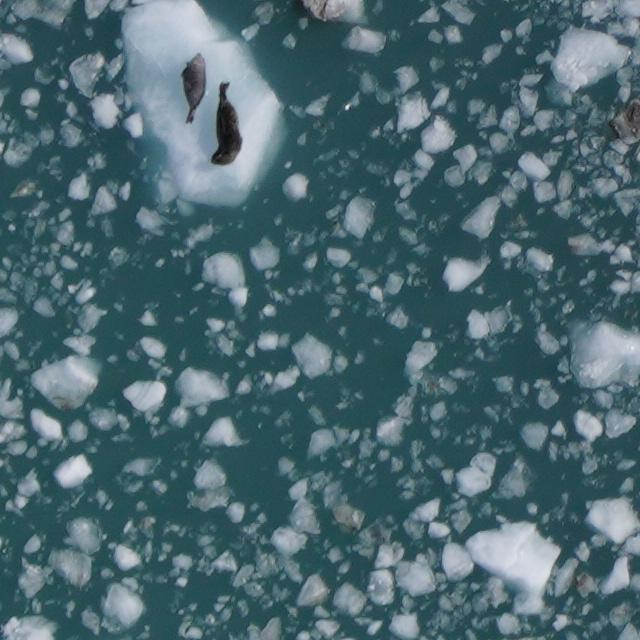seal: (208, 80, 243, 166), (180, 52, 207, 123)
